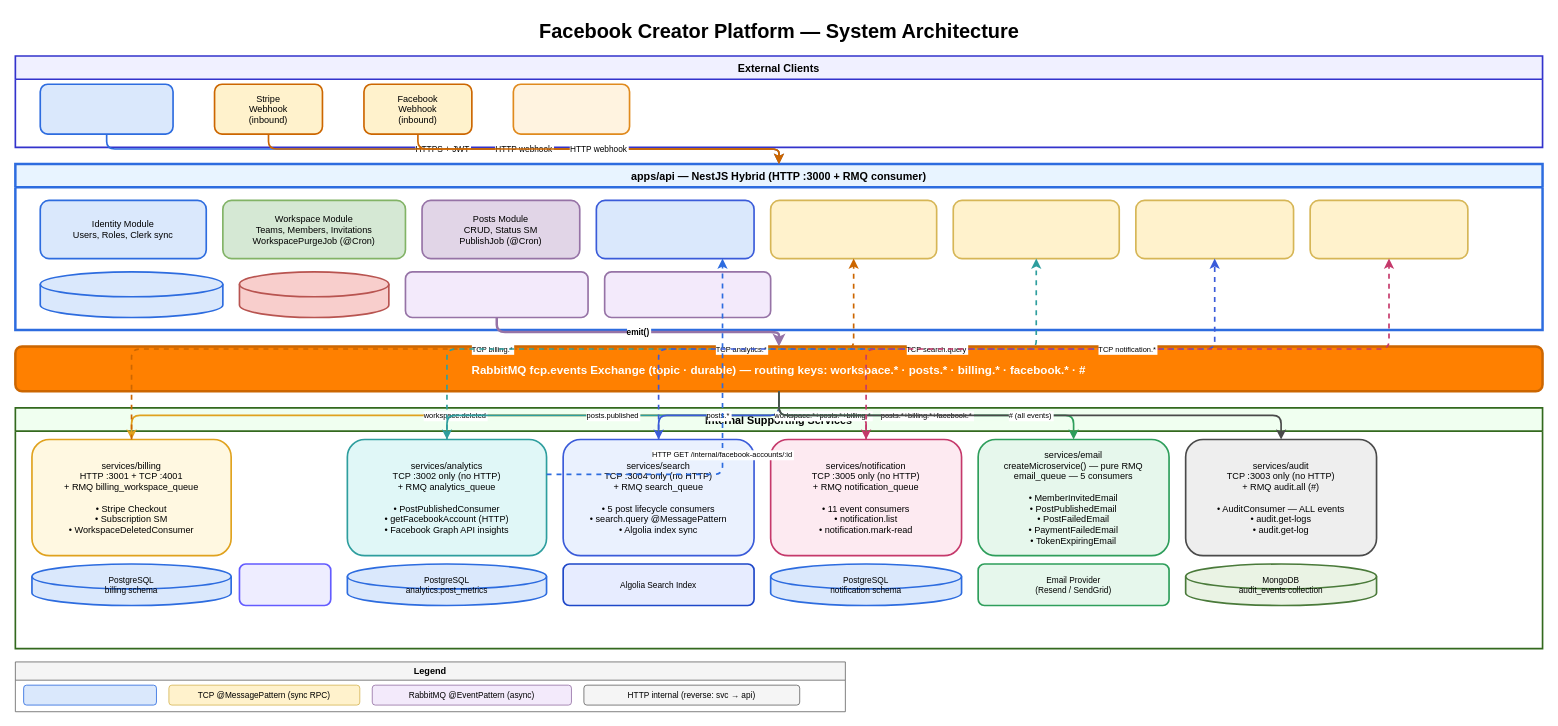
The diagram is 1558 pixels wide and 726 high, and some of its shapes have lost their labels. Each missing label, with the centre of its shape:
Analytics Module Metrics read TCP adapter → analytics svc: the point at 1036,229
api_queue consumer dlq_queue consumer: the point at 687,294
Billing Module Checkout, Subscription TCP adapter → billing svc: the point at 853,229
Browser / Next.js Web Client: the point at 106,108
Clerk Auth (JWT provider): the point at 571,108
Facebook Module OAuth, Pages Webhook handler: the point at 674,229
HTTPS (external): the point at 89,694
Notification Module List, mark-read TCP adapter → notif svc: the point at 1388,229
PostgreSQL (core schema) MikroORM — Unit of Work: the point at 131,294
RabbitMqEventBus ClientProxy.emit() → fcp.events: the point at 496,294
Redis (dedup keys): the point at 313,294
Search Module Full-text query TCP adapter → search svc: the point at 1214,229
Stripe API: the point at 284,584
